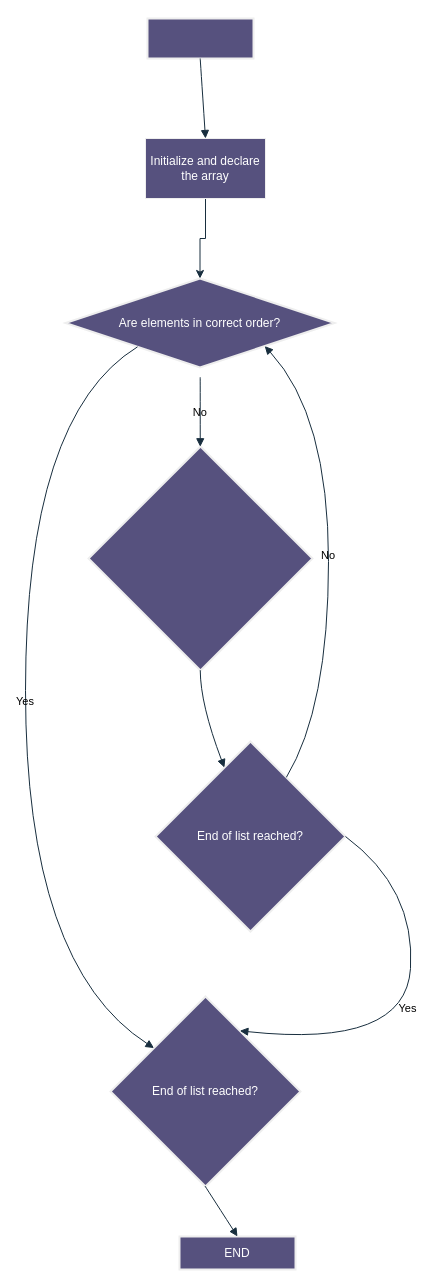
This 435x1287 diagram has some shape labels left out. The shapes that lost their labels are listed below. From the top down, each one's centre as x and y in pixels, then its label:
the point at 200,38: Start
the point at 200,558: Swap adjacent elements
